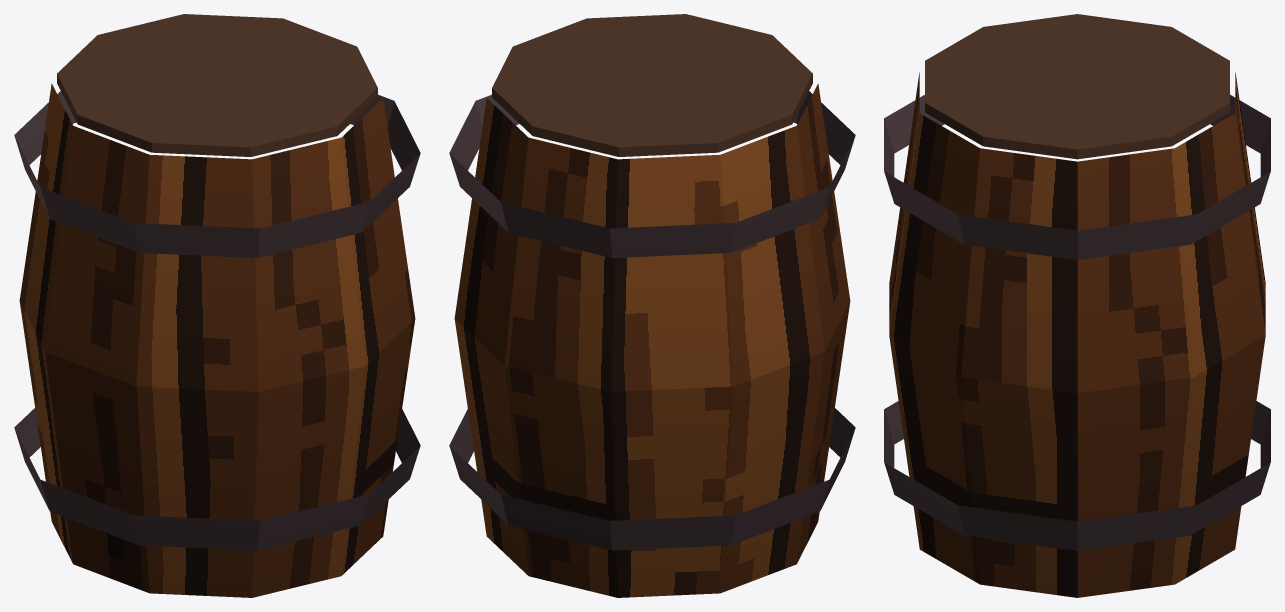
Rendered from barrel.glb.
The picture shows the model from 3 angles, left to right: view 1: azimuth 30°, elevation 25°; view 2: azimuth 150°, elevation 25°; view 3: azimuth 270°, elevation 25°; orthographic projection.
Parts seen in each view (by area): view 1: barrel; view 2: barrel; view 3: barrel.
Part boxes in pixels (bbox=[...]): barrel: bbox=[14, 14, 420, 597]; barrel: bbox=[449, 14, 855, 597]; barrel: bbox=[884, 14, 1270, 597].
Bounding box in the file's own units: 0.76 × 0.92 × 0.7228.
2 materials, 1 textured.
